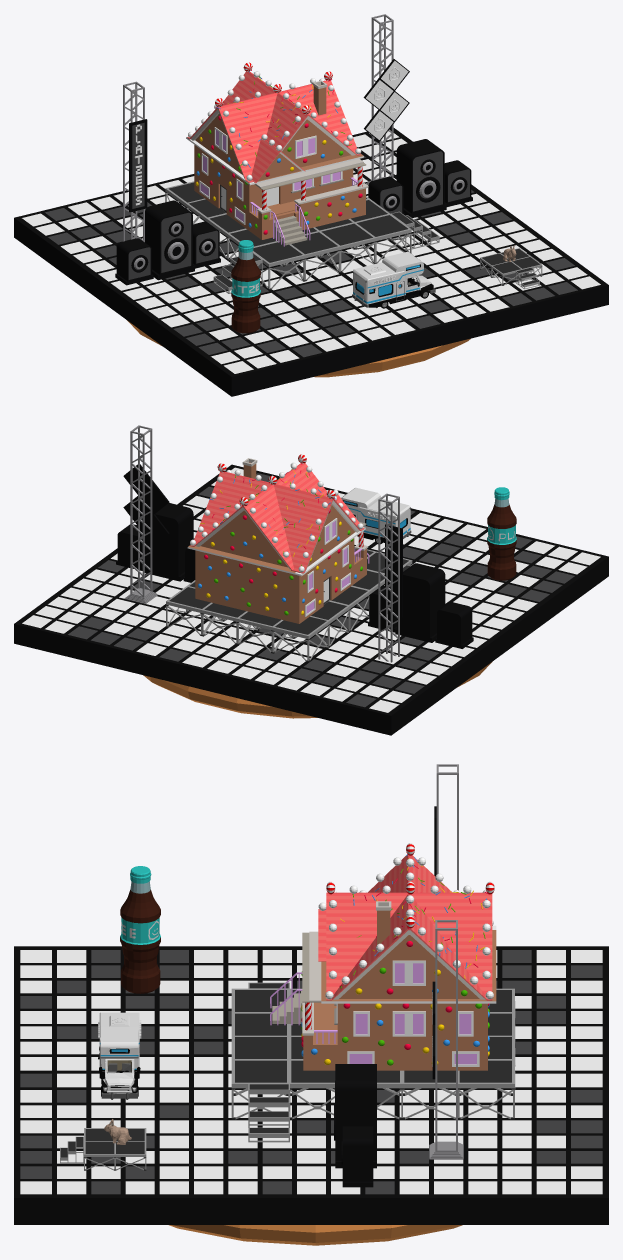
3 renders of one model, top to bottom at view 1: azimuth 30°, elevation 25°; view 2: azimuth 150°, elevation 25°; view 3: azimuth 270°, elevation 25°, orthographic. The views are drawn at different scales.
Parts seen in each view (by area): view 1: Cube.008, Cube.1203, VEHICLES_CAMPER, OBJRANDOM_PLATZEECOLA, UNDERGROUND_PIZZA; view 2: Cube.008, Cube.1203, OBJRANDOM_PLATZEECOLA, VEHICLES_CAMPER, UNDERGROUND_PIZZA; view 3: Cube.008, Cube.1203, OBJRANDOM_PLATZEECOLA, UNDERGROUND_PIZZA, VEHICLES_CAMPER.
Boxes of the visible parts, x1,y1,x2,y2 form: Cube.008: [14, 14, 608, 396]; Cube.1203: [186, 62, 368, 246]; VEHICLES_CAMPER: [352, 251, 435, 308]; OBJRANDOM_PLATZEECOLA: [231, 240, 260, 333]; UNDERGROUND_PIZZA: [127, 320, 470, 377]; Cube.008: [14, 425, 608, 735]; Cube.1203: [187, 454, 369, 623]; OBJRANDOM_PLATZEECOLA: [487, 487, 516, 580]; VEHICLES_CAMPER: [341, 487, 411, 544]; UNDERGROUND_PIZZA: [143, 661, 492, 718]; Cube.008: [14, 764, 608, 1224]; Cube.1203: [270, 843, 496, 1070]; OBJRANDOM_PLATZEECOLA: [120, 866, 160, 993]; UNDERGROUND_PIZZA: [169, 1225, 462, 1245]; VEHICLES_CAMPER: [98, 1012, 141, 1099].
Bounding box in the file's own units: 4000 × 2184 × 4000.
Materials: 52 (2 with a texture image).
